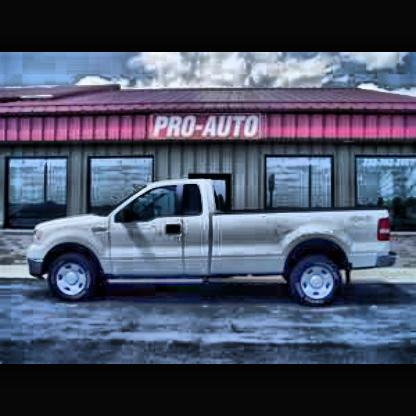Ford F-150 Regular Cab 2007: (32, 179, 399, 309)
